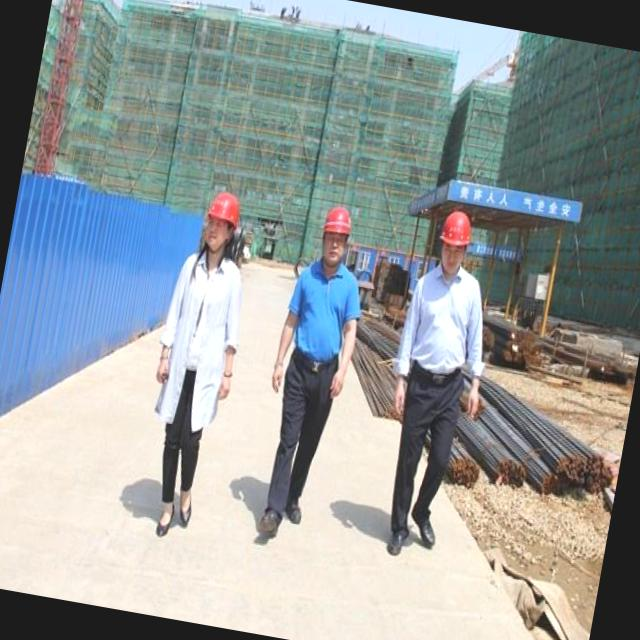helmet: (202, 185, 250, 233), (435, 205, 482, 254), (316, 202, 358, 243)
no-vest: (388, 260, 492, 416), (152, 248, 252, 404), (272, 254, 370, 388)
